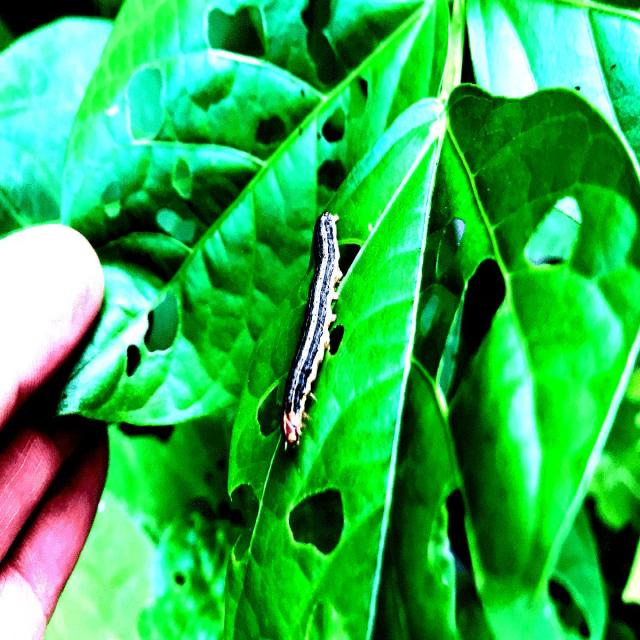armyworm: (280, 210, 343, 447)
